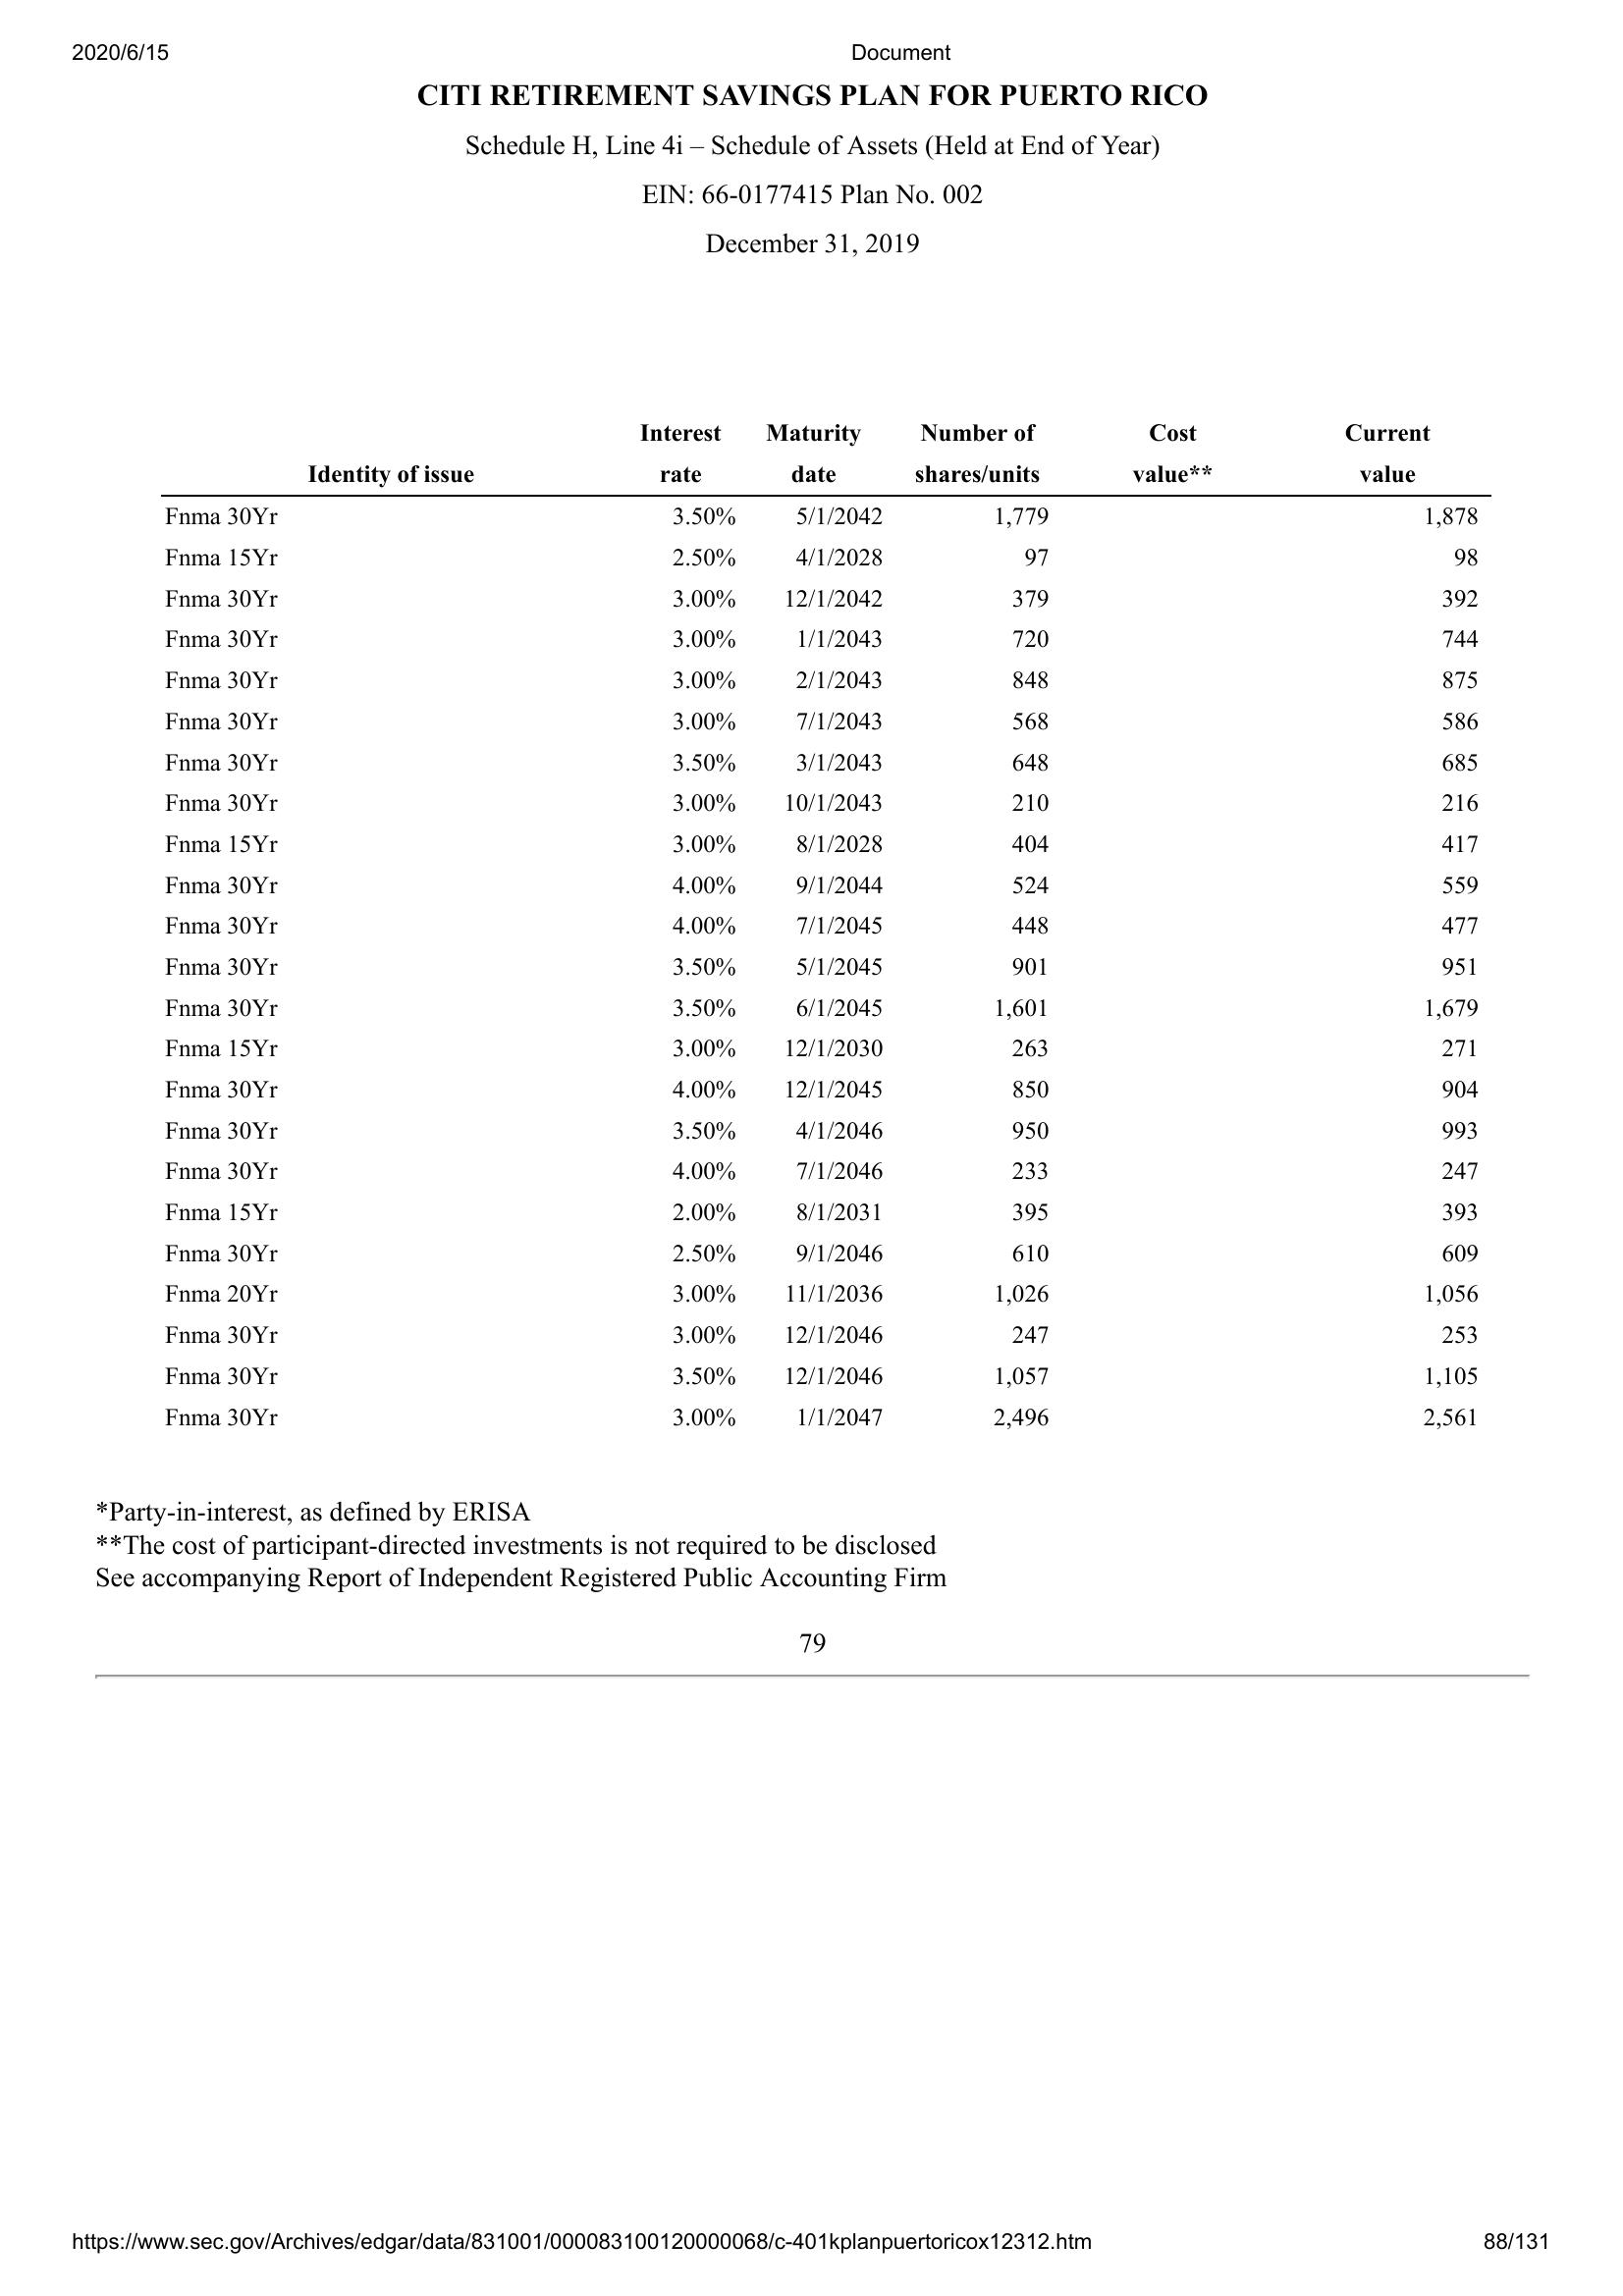table: (156, 418, 1491, 1441)
